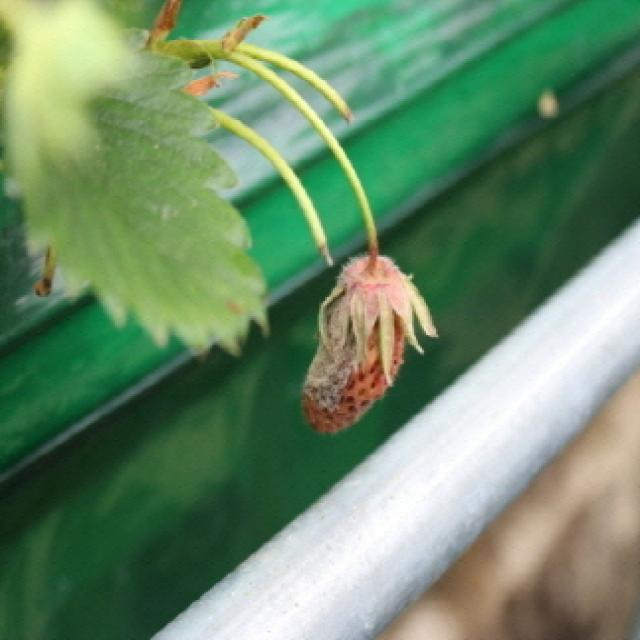Gray Mold: (301, 248, 441, 434)
